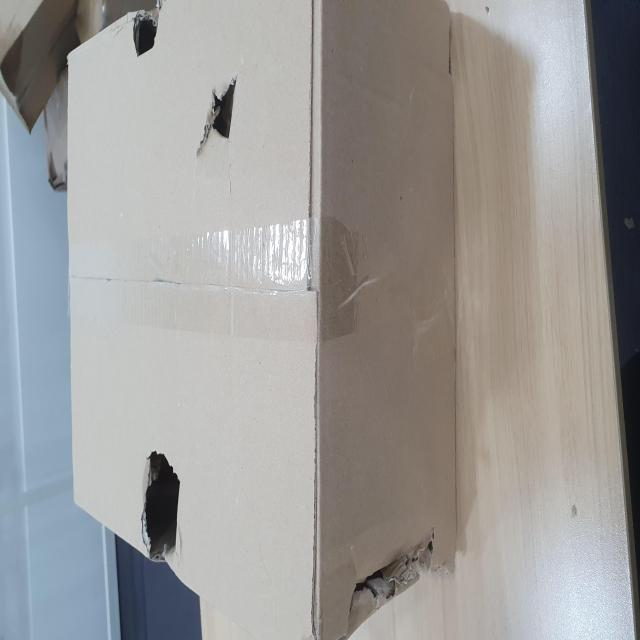damaged: (268, 342, 320, 446), (47, 250, 109, 337), (322, 228, 359, 298), (10, 616, 63, 640)
